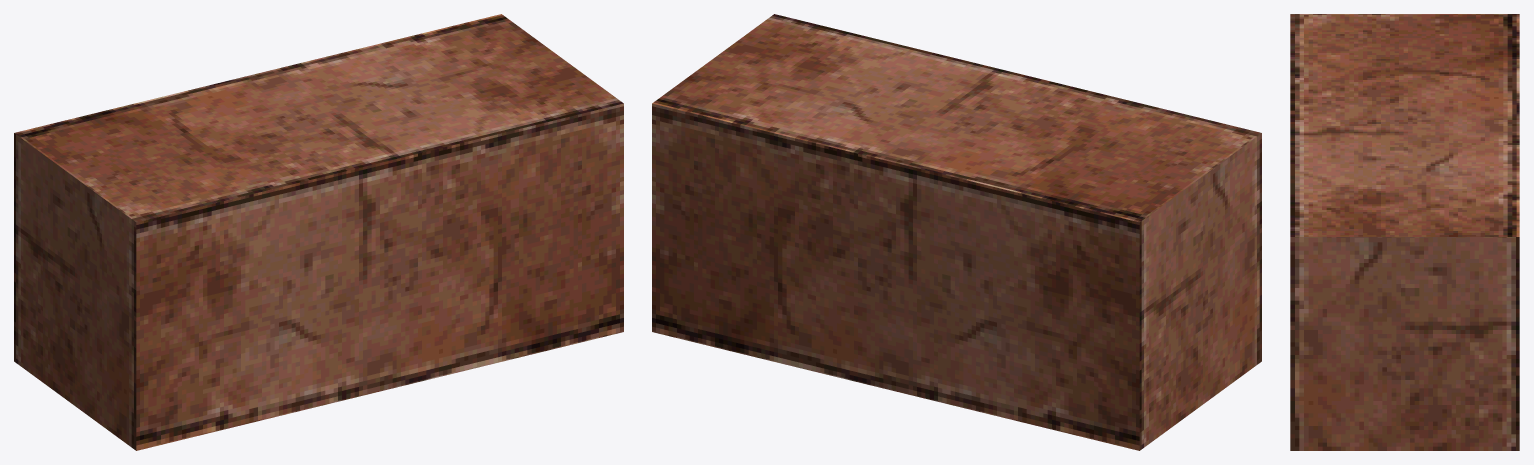
File: brick_1.glb
3 views of the same model, side by side, from view 1: azimuth 30°, elevation 25°; view 2: azimuth 150°, elevation 25°; view 3: azimuth 270°, elevation 25° (orthographic). The views are drawn at different scales.
Visible parts, largest first — view 1: Brick_1; view 2: Brick_1; view 3: Brick_1.
Boxes of the visible parts, x1=… form: Brick_1: x1=14, y1=14, x2=623, y2=450; Brick_1: x1=652, y1=14, x2=1261, y2=450; Brick_1: x1=1290, y1=14, x2=1519, y2=450.
Size of the model in its own units: 0.5489 by 0.2458 by 0.2385.
1 material, 1 textured.
